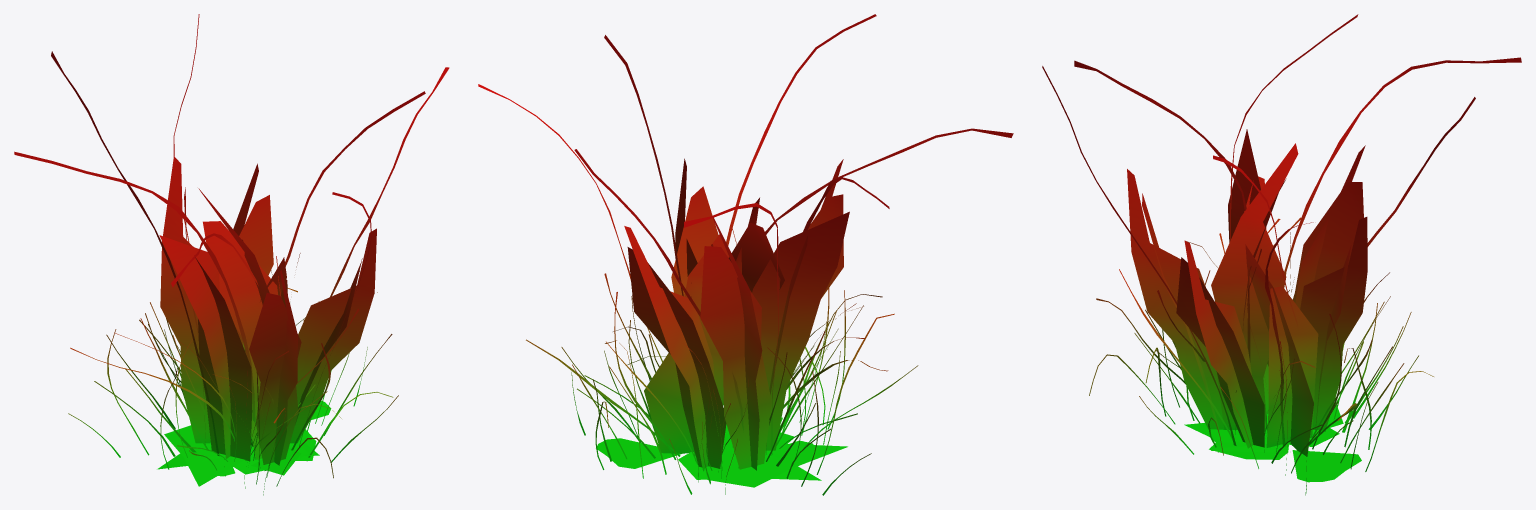
The model's file is uddmcgbia_Var9_LOD0.fbx.
3 renders of one model, left to right at view 1: azimuth 30°, elevation 25°; view 2: azimuth 150°, elevation 25°; view 3: azimuth 270°, elevation 25°, orthographic. The views are drawn at different scales.
Visible parts, largest first — view 1: _adc6_Var9_LOD0; view 2: _adc6_Var9_LOD0; view 3: _adc6_Var9_LOD0.
Part boxes in pixels (left/top/right/bottom): _adc6_Var9_LOD0: left=14, top=14, right=449, bottom=495; _adc6_Var9_LOD0: left=478, top=14, right=1013, bottom=495; _adc6_Var9_LOD0: left=1042, top=14, right=1521, bottom=495.
Size of the model in its own units: 22.82 by 18.67 by 22.22.
